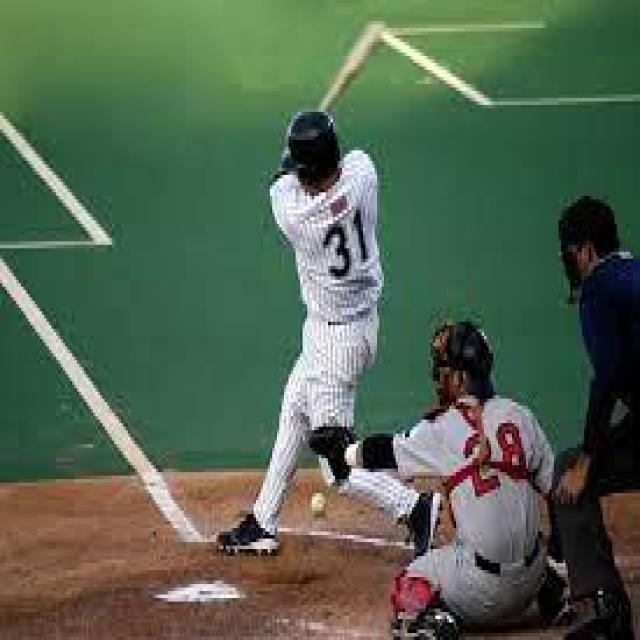ball: (305, 465, 334, 533)
